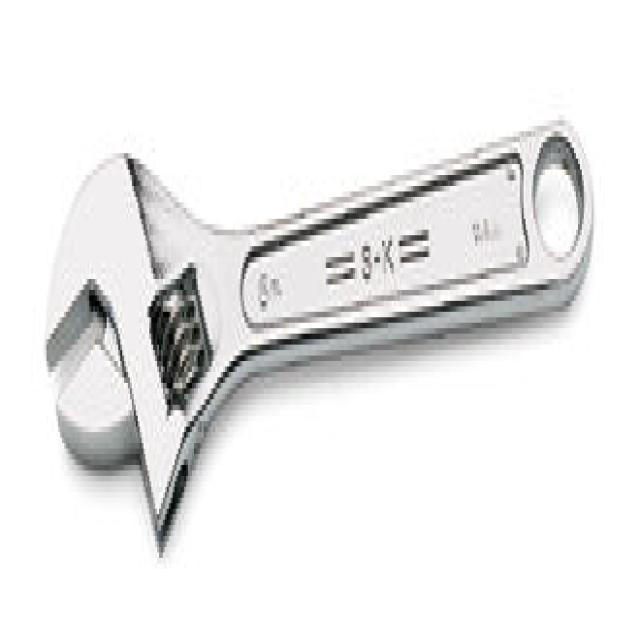wrench: (29, 86, 640, 610)
